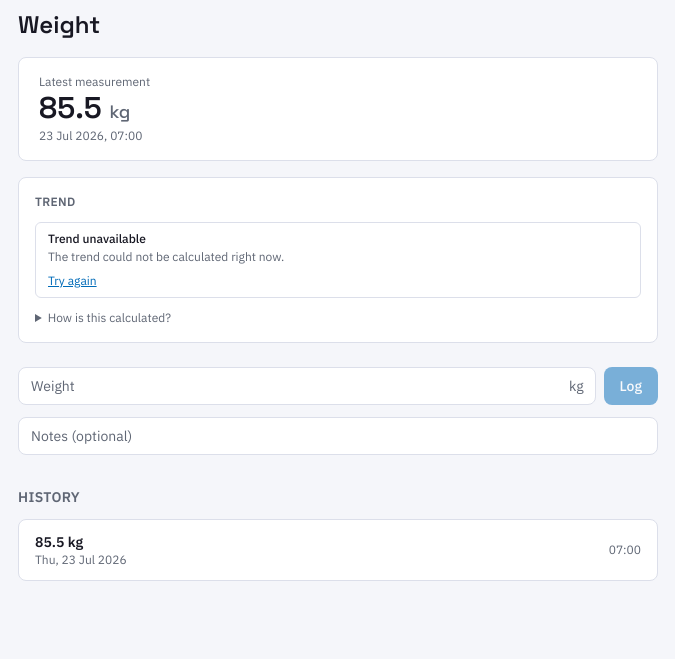
Test case: WeightLogPage — log form › appends new entry to the top of the list without refetch
The width and height of the screenshot is (675, 659).
Check: the text "85.5" is shown, box [39,88,102,127]
Type "84.5" into the number field labelled "Weight".
click(307, 386); type("84.5")  # box [18,367,596,405]
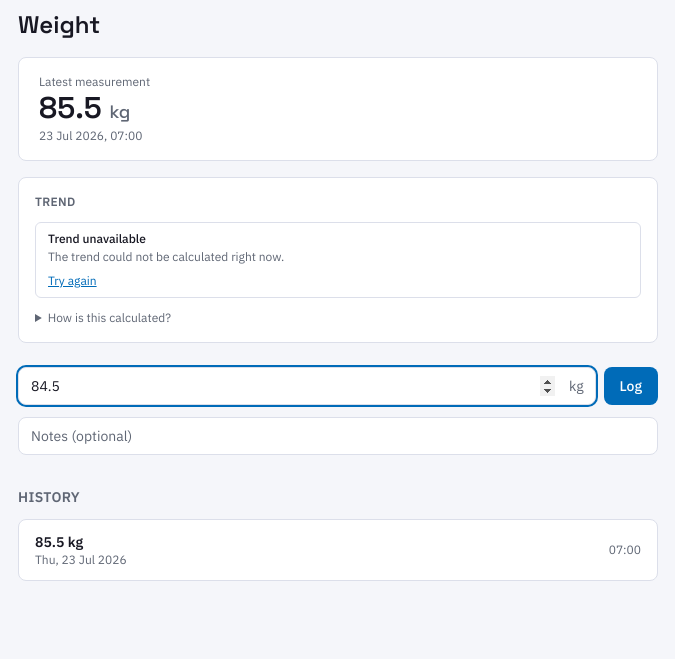
Click the button "Log".
click(631, 386)  # box [604,367,658,405]
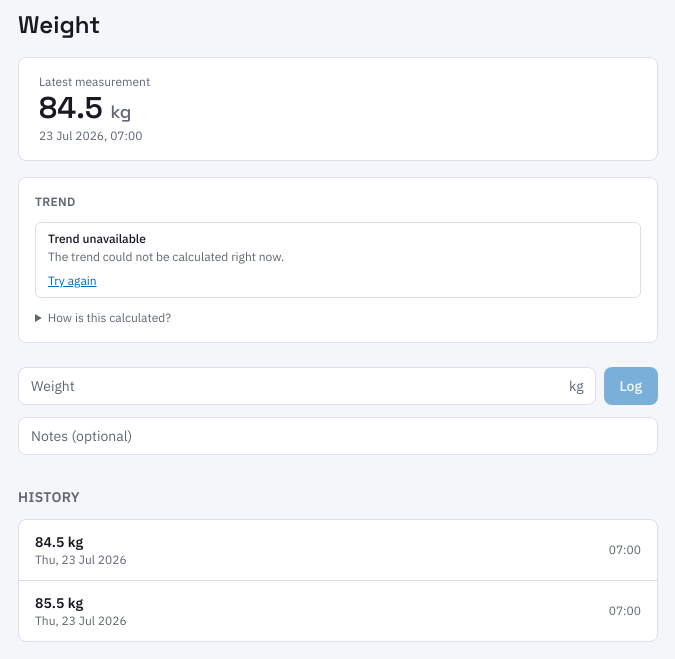
Check: the text "84.5" is shown, box [39,88,103,127]
